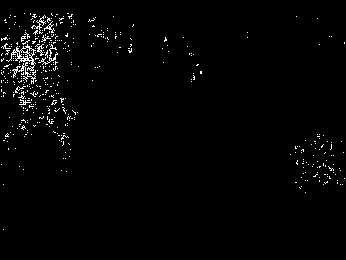person: (46, 96, 79, 173)
